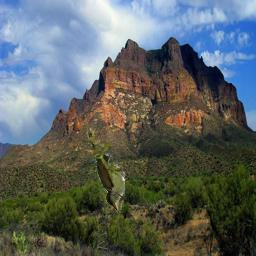Cuckoo: (87, 129, 125, 210)
